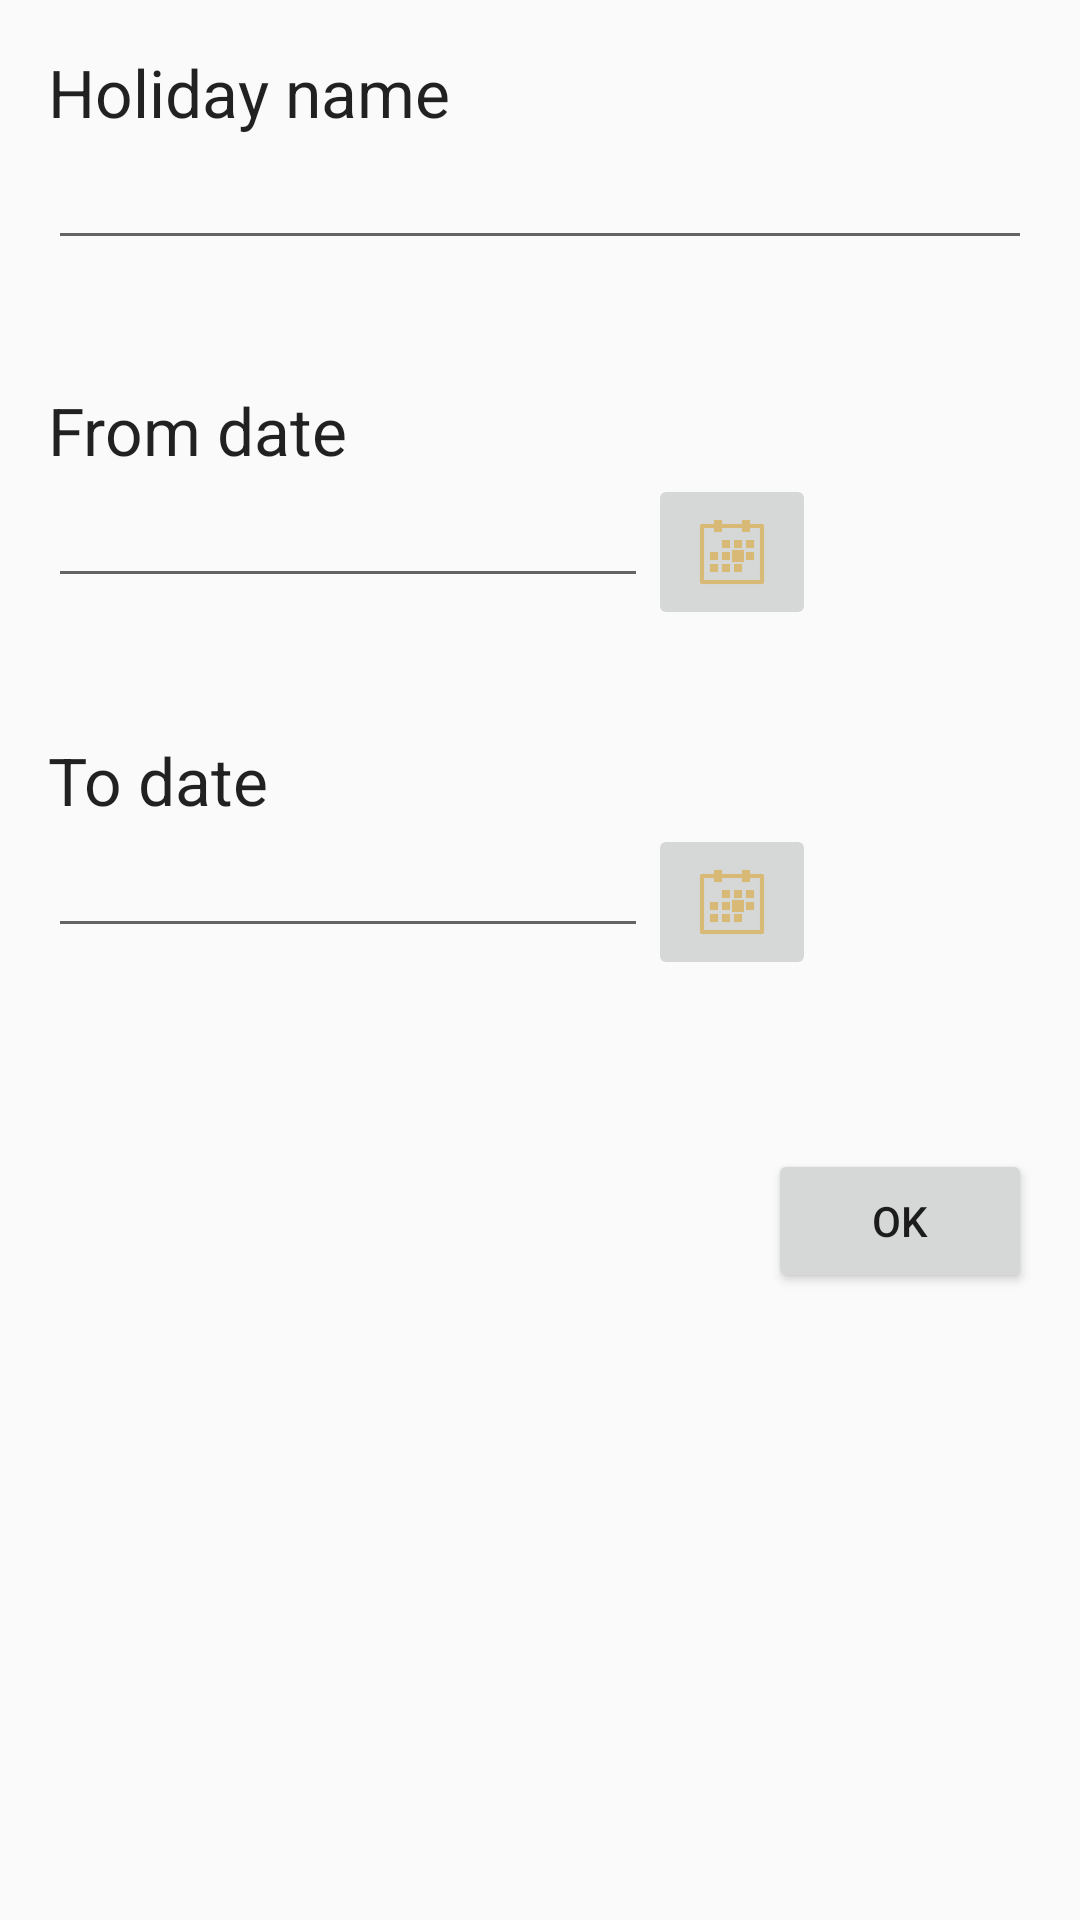

Icons on this 1080 x 1920 Android screen, each with its box as (x1, y1, x2, y2):
calendar: (660, 492, 804, 612), (660, 842, 804, 962)
